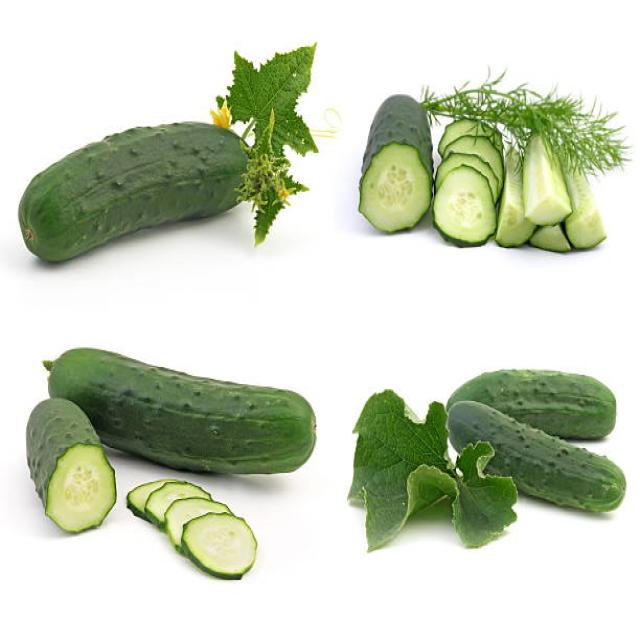cucumber: (19, 119, 261, 262), (49, 350, 316, 474), (449, 400, 627, 512), (26, 396, 116, 534), (451, 370, 616, 440), (356, 93, 435, 236)
